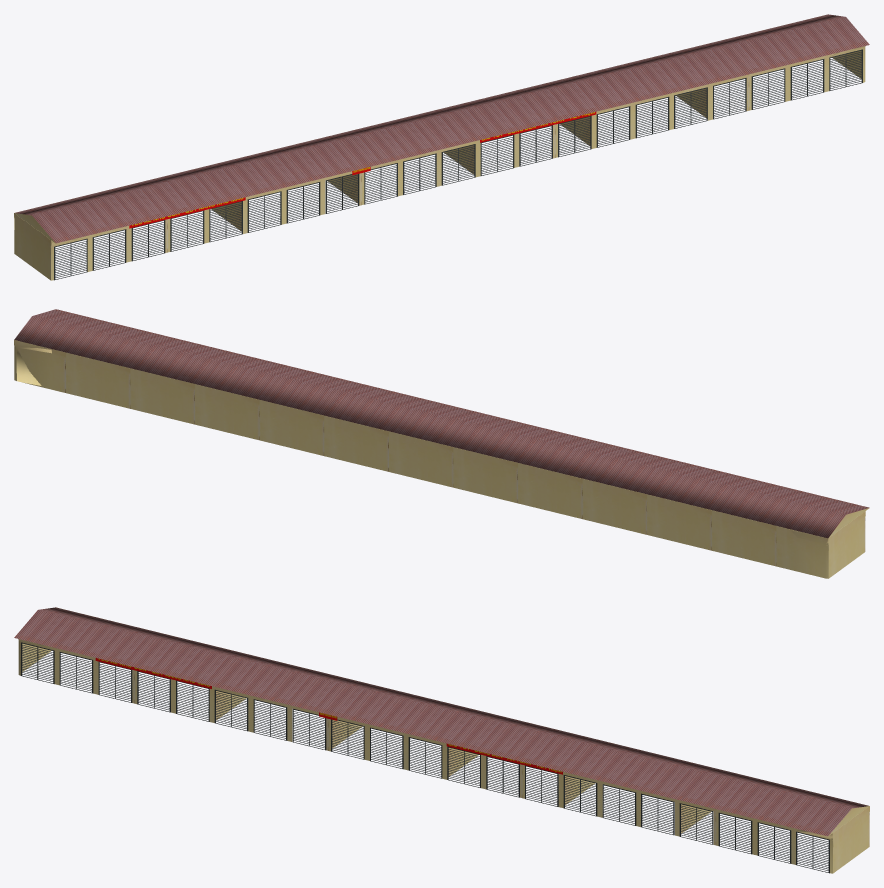
The model's file is house.glb.
3 views of the same model, one above another, from view 1: azimuth 30°, elevation 25°; view 2: azimuth 150°, elevation 25°; view 3: azimuth 330°, elevation 25° (orthographic).
Parts seen in each view (by area): view 1: nha xe_LOD1; view 2: nha xe_LOD1; view 3: nha xe_LOD1.
Part boxes in pixels (x1,y1,x2,y2): nha xe_LOD1: (14,14,869,280); nha xe_LOD1: (14,309,869,578); nha xe_LOD1: (14,607,869,873).
Size of the model in its own units: 63.02 by 3.79 by 5.62.
Materials: 4 (4 with a texture image).
